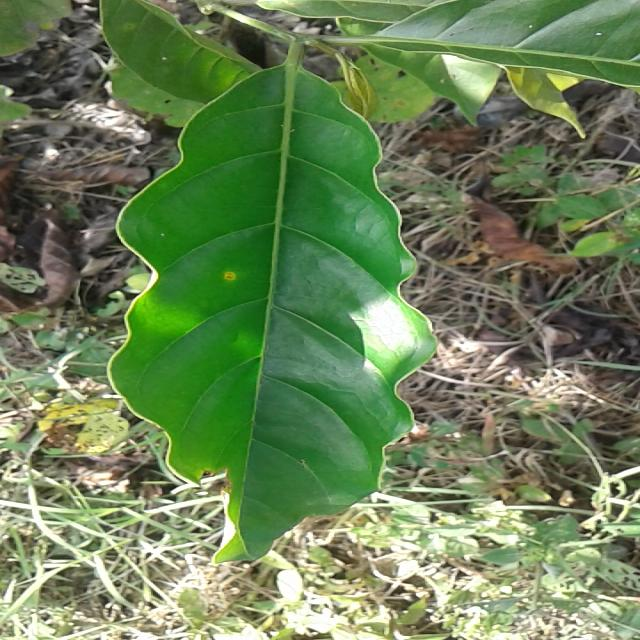Enfermedad-Roya: (108, 64, 438, 566)
